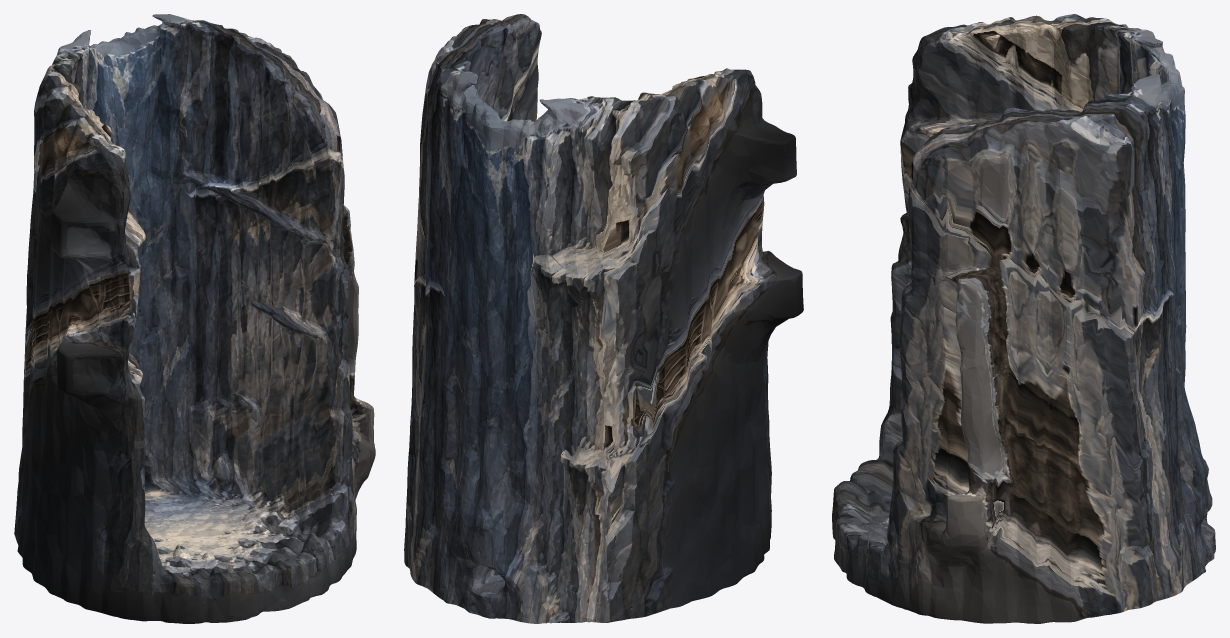
File: volcano-reduced-v3.glb
3 renders of one model, left to right at view 1: azimuth 30°, elevation 25°; view 2: azimuth 150°, elevation 25°; view 3: azimuth 270°, elevation 25°, orthographic. The views are drawn at different scales.
Parts seen in each view (by area): view 1: geometry_0; view 2: geometry_0; view 3: geometry_0.
Part boxes in pixels (<box>): geometry_0: <box>14,14,375,623</box>; geometry_0: <box>404,14,803,623</box>; geometry_0: <box>832,14,1215,623</box>.
Size of the model in its own units: 1.4 by 1.99 by 1.39.
Materials: 1 (1 with a texture image).
